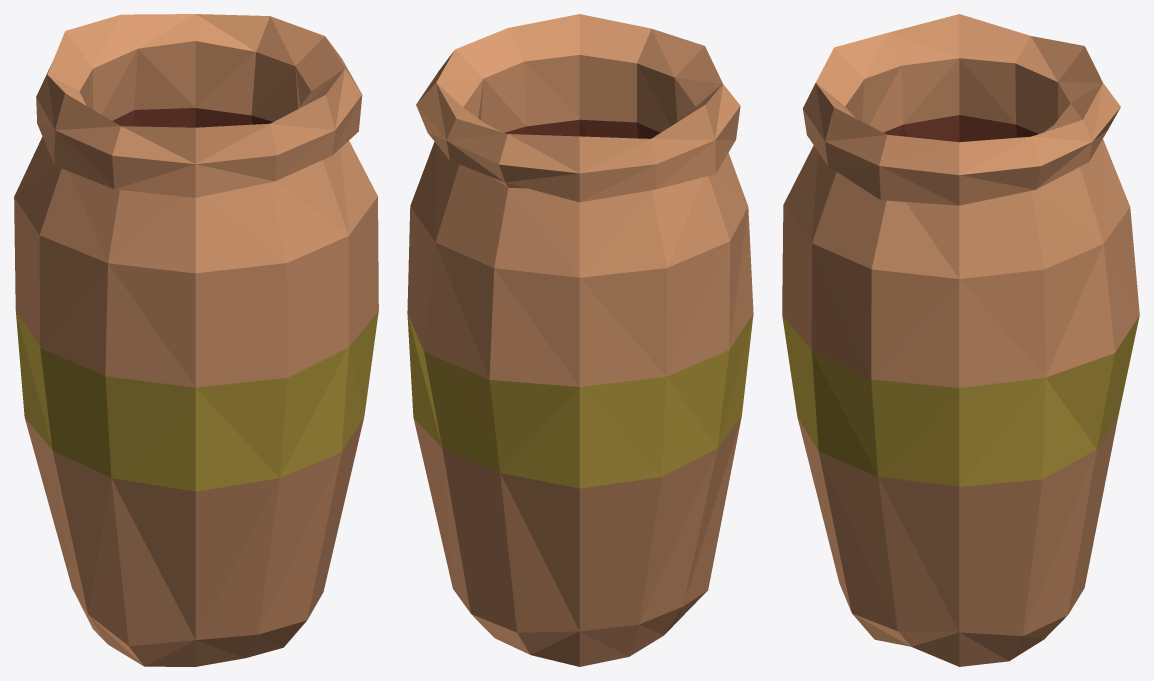
File: Jarron-3.FBX
3 views of the same model, side by side, from view 1: azimuth 30°, elevation 25°; view 2: azimuth 150°, elevation 25°; view 3: azimuth 270°, elevation 25° (orthographic). The views are drawn at different scales.
Visible parts, largest first — view 1: Jarron-3; view 2: Jarron-3; view 3: Jarron-3.
Boxes of the visible parts, bbox=[...] form: Jarron-3: bbox=[14, 14, 378, 666]; Jarron-3: bbox=[407, 14, 753, 666]; Jarron-3: bbox=[782, 14, 1139, 666].
Size of the model in its own units: 29.61 by 51.83 by 30.51.
Materials: 1 (1 with a texture image).
